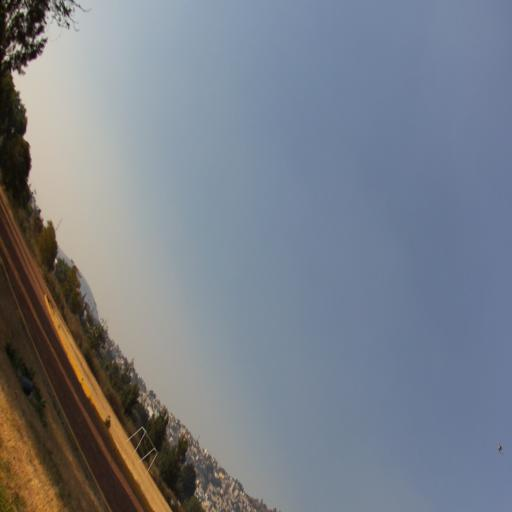drones: (497, 440, 504, 458)
